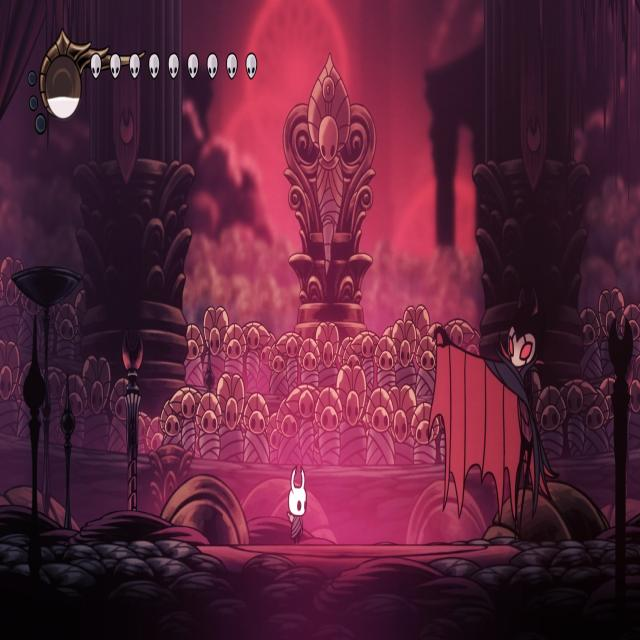Open Cloak: (424, 301, 559, 549)
Player: (284, 462, 308, 544)
